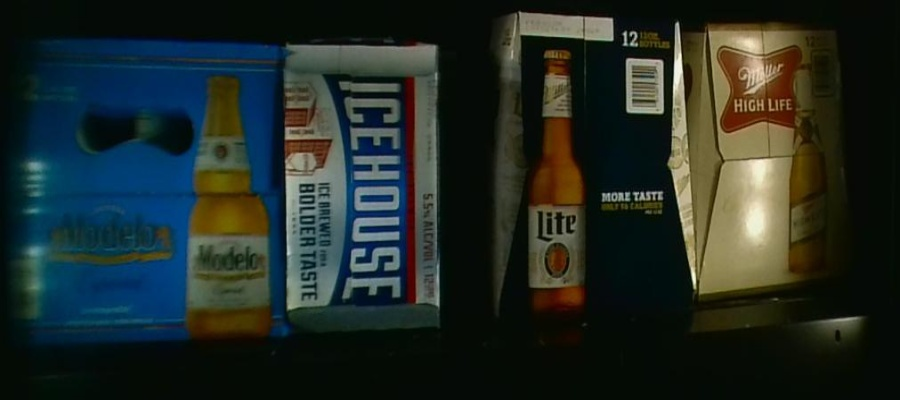bottle: (1, 44, 288, 340), (494, 11, 695, 320), (284, 38, 437, 328), (695, 24, 853, 295)
